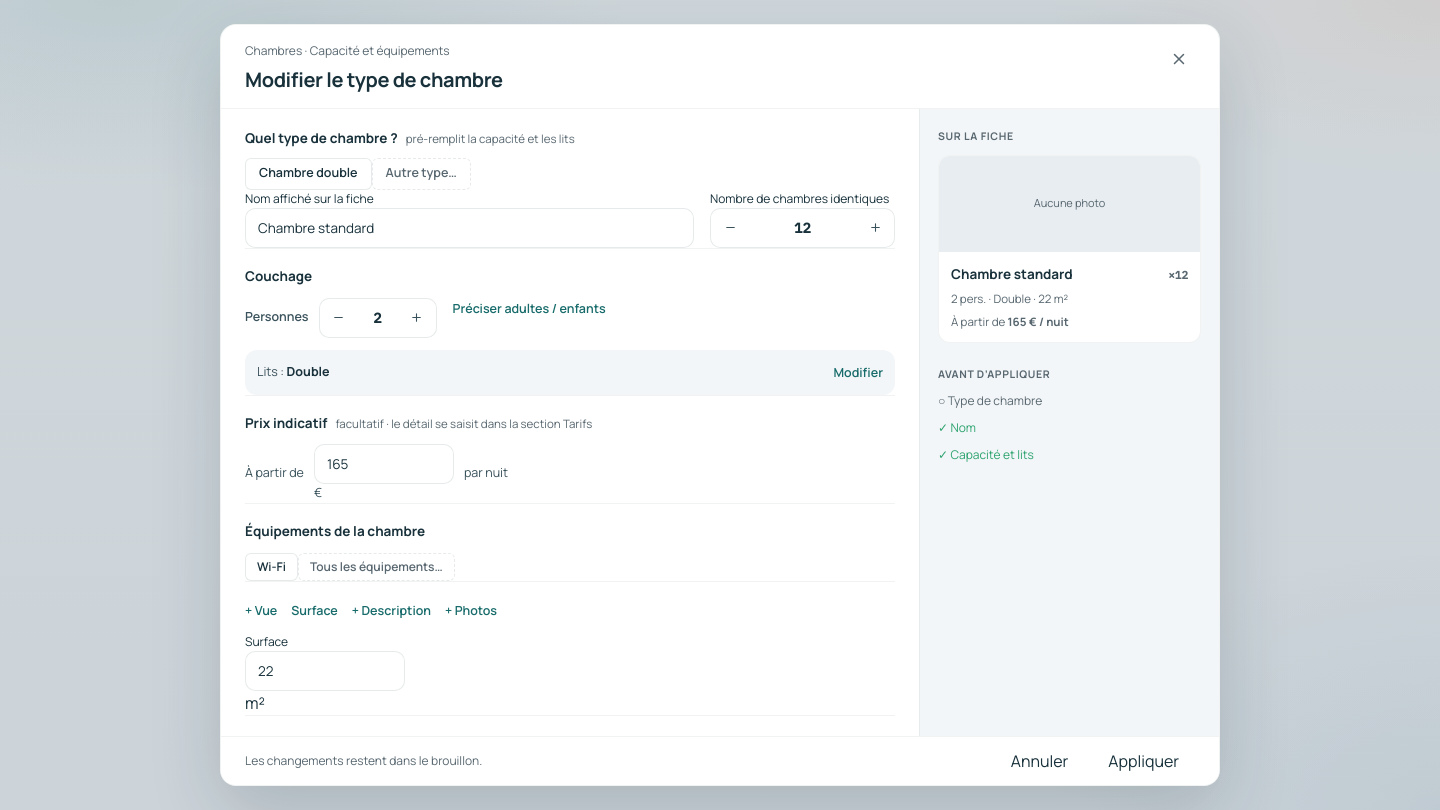
RoomEditModal › surfaces common amenities flat and keeps the rest in collapsible categories
Expected: the button "Wi-Fi" is shown, [245,553,298,581]
Click the button "Tous les équipements…" at x=376, y=567, box [298,553,455,581]
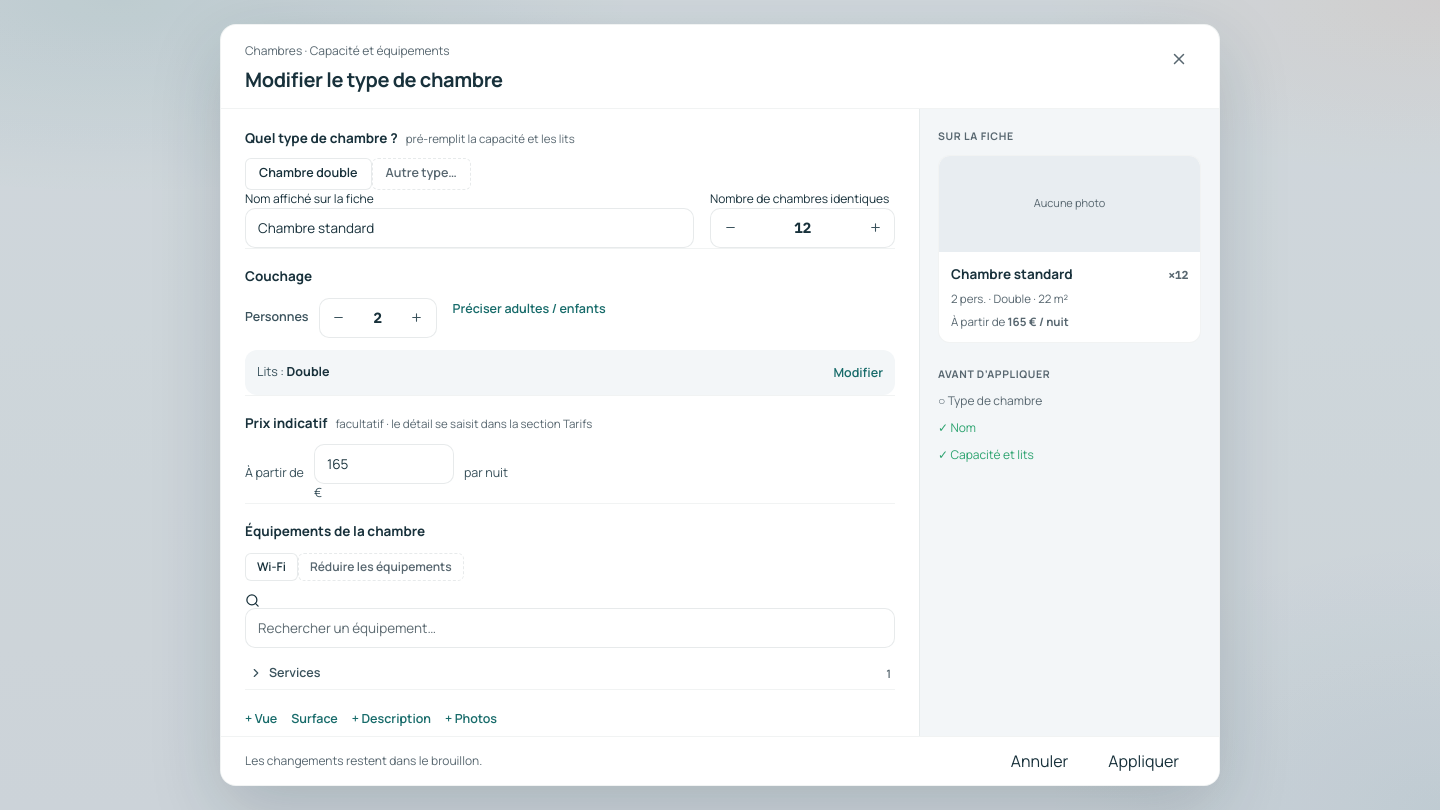
Expected: the button "Conciergerie" is not shown
Expected: the button "Services 1" is shown
Click the button "Services 1" at x=295, y=673, box [245,658,895,689]
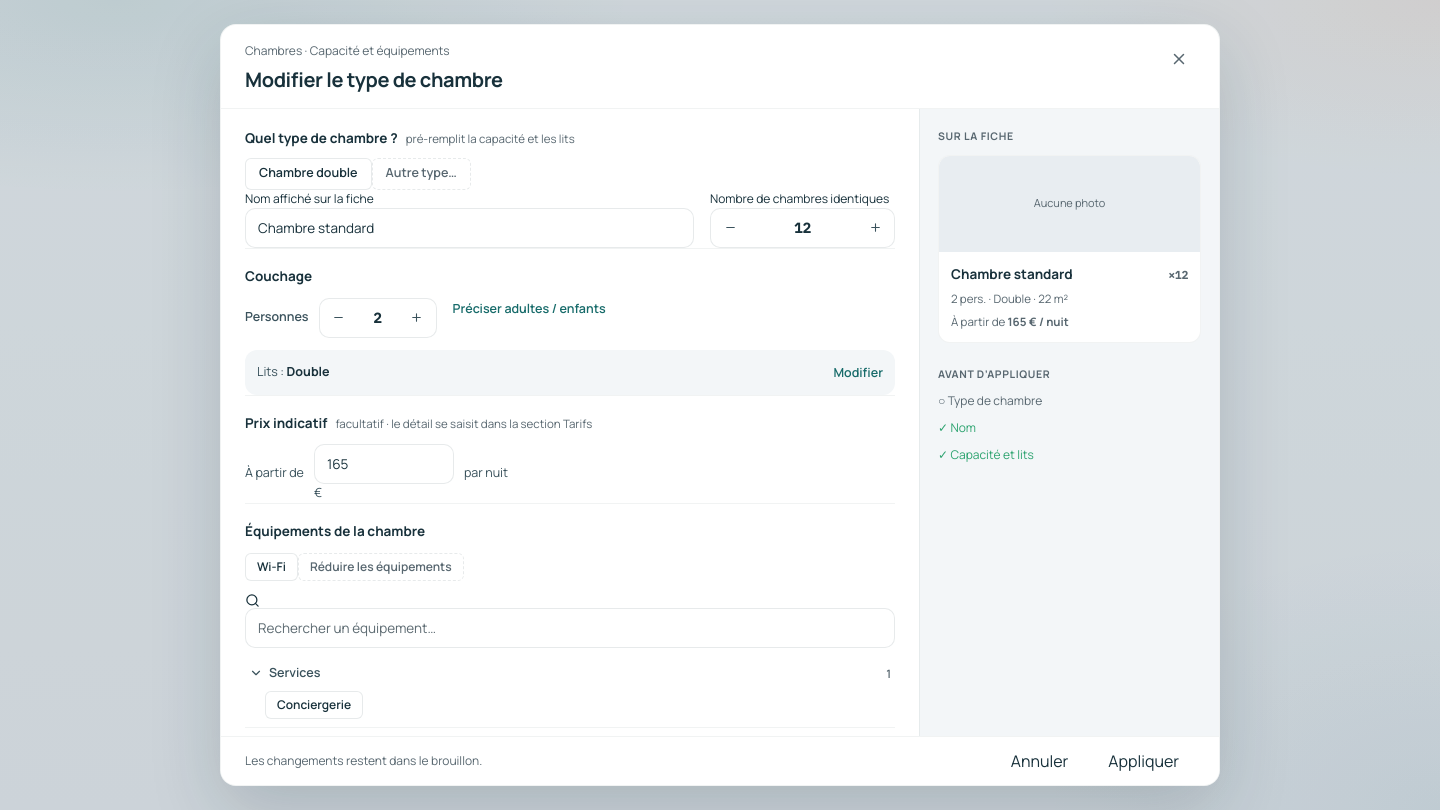
Expected: the button "Conciergerie" is shown, [265,691,363,719]
